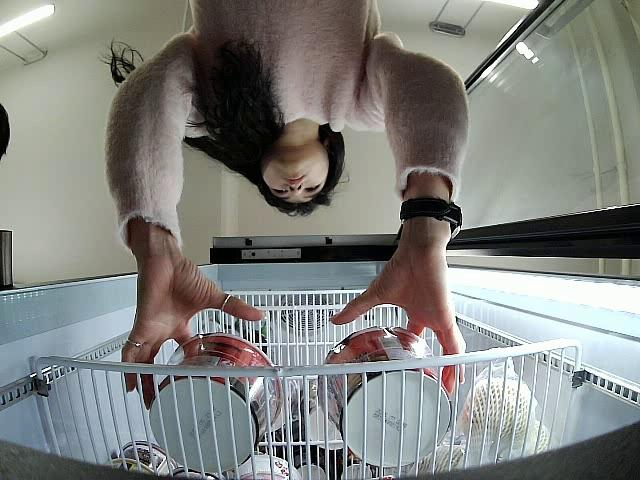00_hand: (328, 236, 467, 393), (120, 262, 266, 411)
01_shinRamen_L: (316, 324, 454, 467), (149, 331, 284, 474)
